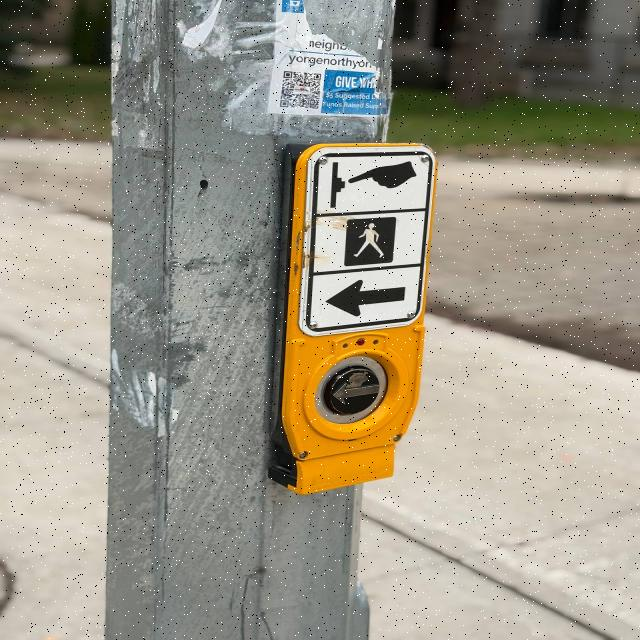Electrical Pole: (94, 0, 449, 640)
